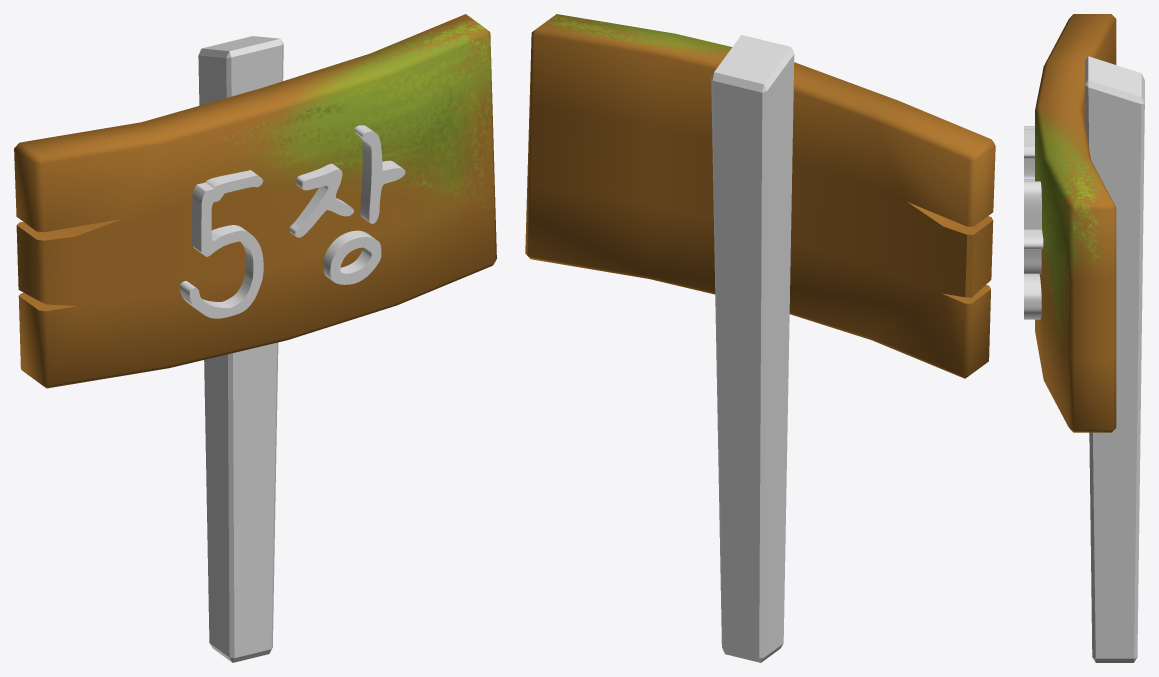
The model's file is 5Panel.FBX.
3 views of the same model, side by side, from view 1: azimuth 30°, elevation 25°; view 2: azimuth 150°, elevation 25°; view 3: azimuth 270°, elevation 25° (orthographic). The views are drawn at different scales.
Visible parts, largest first — view 1: Box054, Box053, 장003, number003; view 2: Box054, Box053; view 3: Box054, Box053, 장003, number003.
Part boxes in pixels (left/top/right/bottom): Box054: left=14, top=14, right=496, bottom=388; Box053: left=198, top=36, right=283, bottom=662; 장003: left=289, top=125, right=405, bottom=284; number003: left=179, top=170, right=263, bottom=318; Box054: left=525, top=14, right=995, bottom=378; Box053: left=711, top=35, right=794, bottom=662; Box054: left=1035, top=14, right=1116, bottom=432; Box053: left=1085, top=56, right=1144, bottom=662; 장003: left=1024, top=181, right=1043, bottom=319; number003: left=1024, top=126, right=1034, bottom=181.
Size of the model in its own units: 78.87 by 100 by 18.75.
